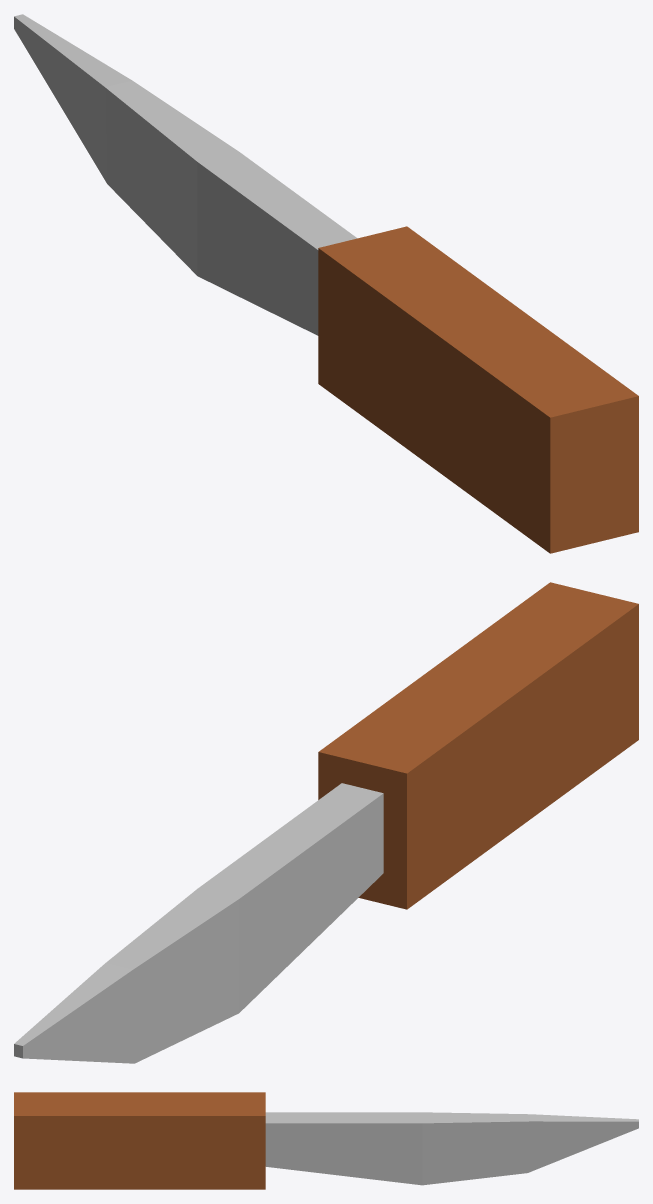
File: knife.glb
The picture shows the model from 3 angles, top to bottom: view 1: azimuth 30°, elevation 25°; view 2: azimuth 150°, elevation 25°; view 3: azimuth 270°, elevation 25°; orthographic projection. The views are drawn at different scales.
Visible parts, largest first — view 1: knife; view 2: knife; view 3: knife.
Boxes of the visible parts, x1,y1,x2,y2 form: knife: [14, 14, 638, 553]; knife: [14, 582, 638, 1063]; knife: [14, 1092, 638, 1189].
Size of the model in its own units: 0.1392 by 0.2095 by 1.57.
